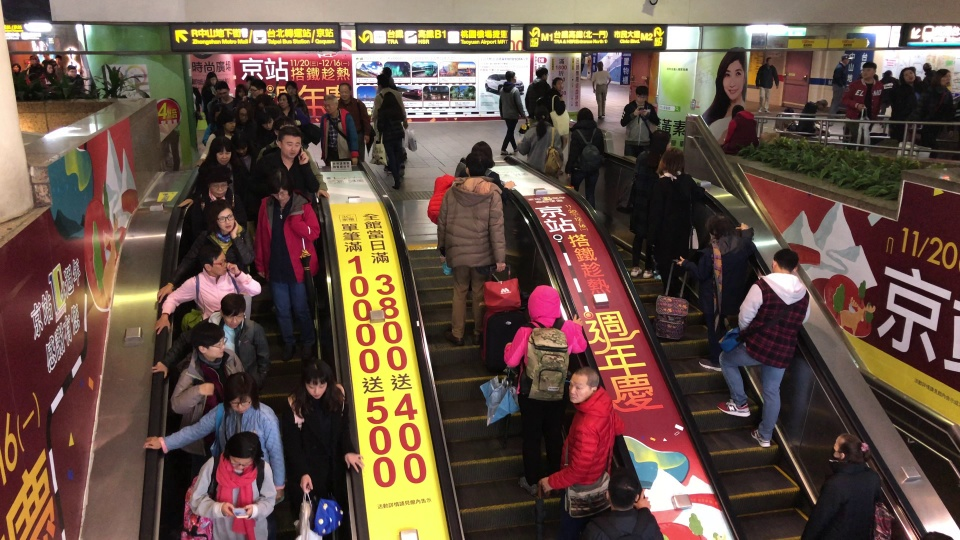person_head: (223, 430, 263, 472), (222, 371, 260, 414), (605, 466, 640, 511), (300, 358, 333, 400), (190, 320, 225, 359), (830, 433, 871, 465), (567, 365, 600, 403), (527, 284, 561, 320), (267, 167, 295, 203), (205, 199, 235, 232), (198, 242, 227, 276), (219, 293, 246, 329), (657, 146, 685, 176), (276, 126, 302, 158), (705, 213, 734, 241), (770, 248, 799, 276), (206, 168, 232, 198), (470, 140, 495, 169), (209, 136, 232, 167), (648, 129, 672, 158), (464, 150, 487, 176), (271, 117, 295, 141), (230, 131, 251, 156), (256, 107, 276, 130), (216, 110, 236, 132), (236, 100, 254, 123), (930, 68, 951, 87), (575, 106, 594, 125), (322, 94, 339, 115), (249, 78, 266, 98), (214, 80, 230, 101), (533, 104, 549, 123), (898, 67, 915, 84), (861, 61, 877, 79), (337, 82, 352, 100), (635, 85, 649, 104), (382, 91, 397, 108), (277, 92, 292, 108), (730, 103, 745, 119), (376, 73, 390, 90), (254, 93, 272, 106), (233, 83, 248, 98), (284, 80, 298, 94), (534, 67, 548, 80), (504, 70, 516, 83), (551, 77, 563, 90), (206, 71, 217, 85), (840, 53, 853, 64), (245, 74, 256, 86), (67, 65, 77, 78), (815, 99, 828, 109), (382, 66, 391, 79), (11, 62, 21, 73), (44, 63, 54, 74), (783, 107, 794, 117), (922, 62, 932, 72), (595, 60, 604, 71), (882, 69, 893, 77), (29, 55, 38, 64), (765, 56, 773, 66), (55, 54, 62, 64)
person_vbox: (142, 371, 286, 540), (715, 248, 811, 447), (503, 284, 587, 496), (280, 358, 365, 540), (537, 365, 625, 540), (435, 151, 507, 347), (252, 168, 322, 363), (169, 319, 246, 487), (676, 212, 755, 373), (156, 199, 256, 319), (150, 293, 270, 391), (153, 242, 262, 335), (188, 429, 277, 540), (645, 146, 708, 296), (798, 433, 882, 540), (252, 126, 319, 227), (627, 129, 672, 279), (580, 465, 665, 540), (255, 117, 330, 200), (177, 136, 253, 209), (564, 106, 605, 212), (908, 68, 955, 159), (189, 168, 247, 241), (371, 73, 409, 177), (457, 140, 516, 203), (840, 61, 883, 145), (516, 104, 563, 179), (619, 84, 660, 158), (376, 90, 405, 191), (319, 94, 358, 166), (888, 67, 923, 145), (337, 83, 370, 161), (498, 70, 527, 156), (194, 111, 236, 167), (719, 103, 759, 156), (825, 53, 853, 127), (524, 67, 552, 121), (206, 80, 242, 121), (755, 56, 779, 113), (796, 98, 831, 136), (272, 92, 310, 126), (590, 60, 611, 119), (230, 131, 260, 171), (878, 69, 898, 129), (284, 80, 310, 123), (544, 77, 566, 127), (200, 70, 217, 125), (236, 101, 258, 140), (374, 66, 398, 95), (257, 108, 276, 144), (38, 62, 60, 93), (60, 65, 84, 92), (773, 107, 798, 131), (191, 85, 202, 129), (26, 54, 44, 75), (921, 61, 936, 83), (580, 52, 591, 80), (54, 54, 63, 80)
